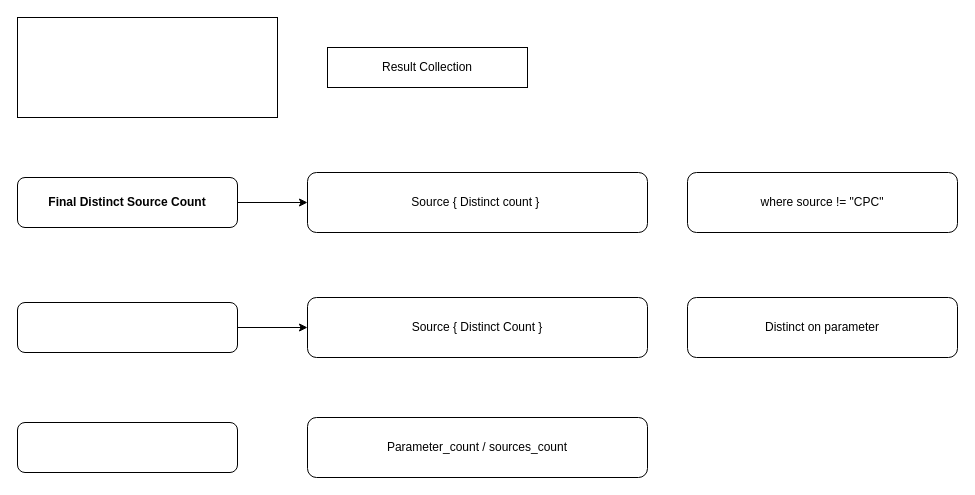
The diagram is 975 pixels wide and 495 high, and some of its shapes have lost their labels. Each missing label, with the centre of its shape:
Data Collection Parameter Source Sr No: (147,67)
Parameter_count: (127,327)
Percent: (127,447)
